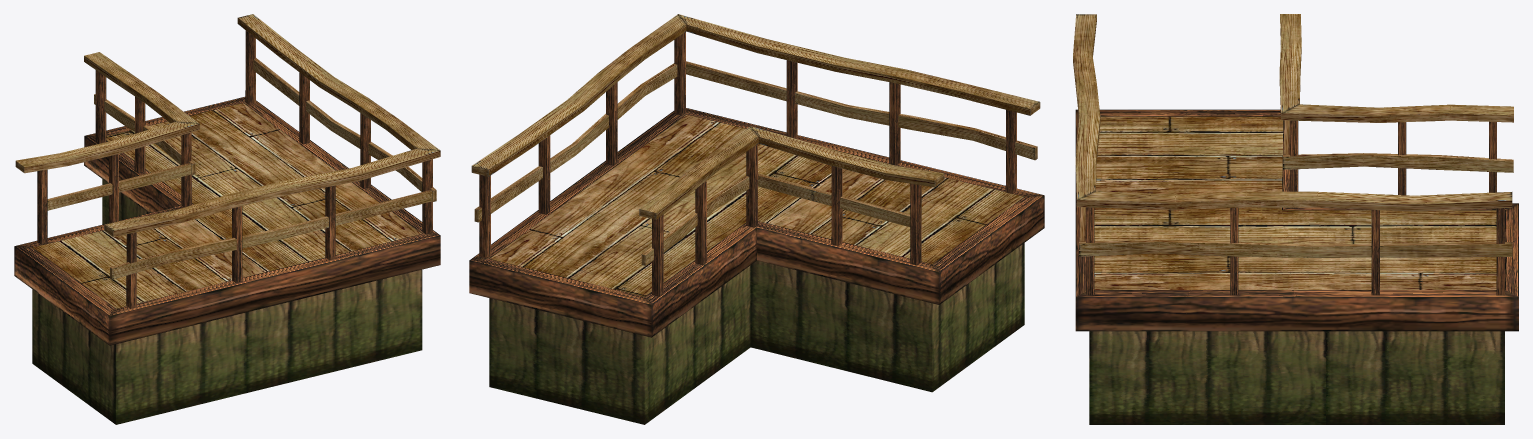
The model's file is INST_WH2_L_BLOCK.fbx.
The picture shows the model from 3 angles, left to right: view 1: azimuth 30°, elevation 25°; view 2: azimuth 150°, elevation 25°; view 3: azimuth 270°, elevation 25°; orthographic projection. The views are drawn at different scales.
Parts seen in each view (by area): view 1: INST_WH2_L_BLOCK; view 2: INST_WH2_L_BLOCK; view 3: INST_WH2_L_BLOCK.
Part boxes in pixels (x1=…): INST_WH2_L_BLOCK: x1=14, y1=14, x2=440, y2=424; INST_WH2_L_BLOCK: x1=469, y1=14, x2=1044, y2=424; INST_WH2_L_BLOCK: x1=1073, y1=14, x2=1518, y2=424.
Size of the model in its own units: 40381 by 23135 by 40226.
4 materials, 4 textured.
